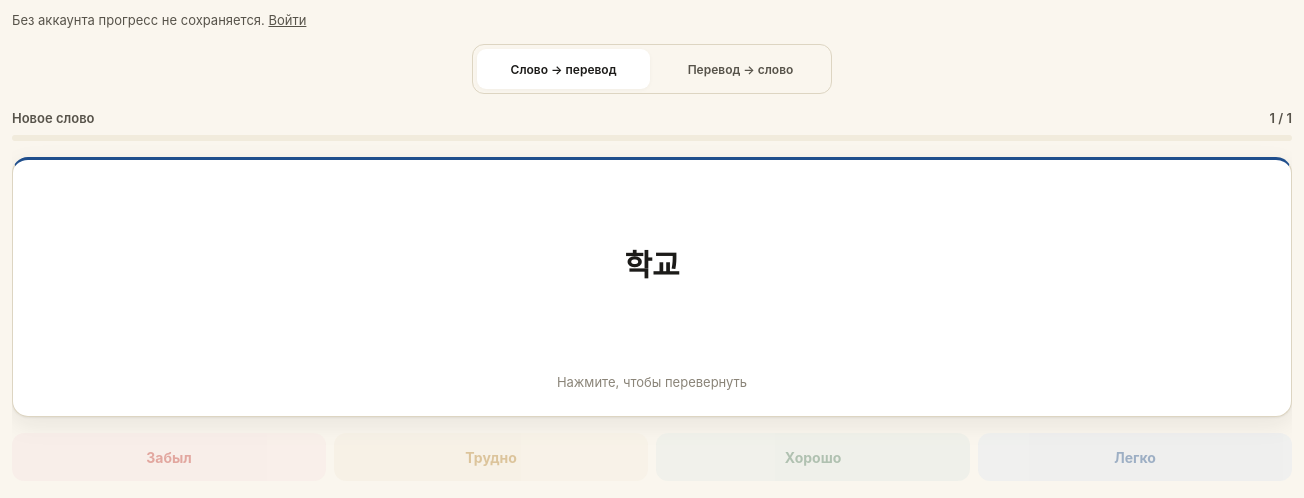
Test case: позволяет гостю повторить забытую карту без записи в аккаунт
Click the button with aria-label "Показать ответ" at [652, 287], box [12,157,1292,417]
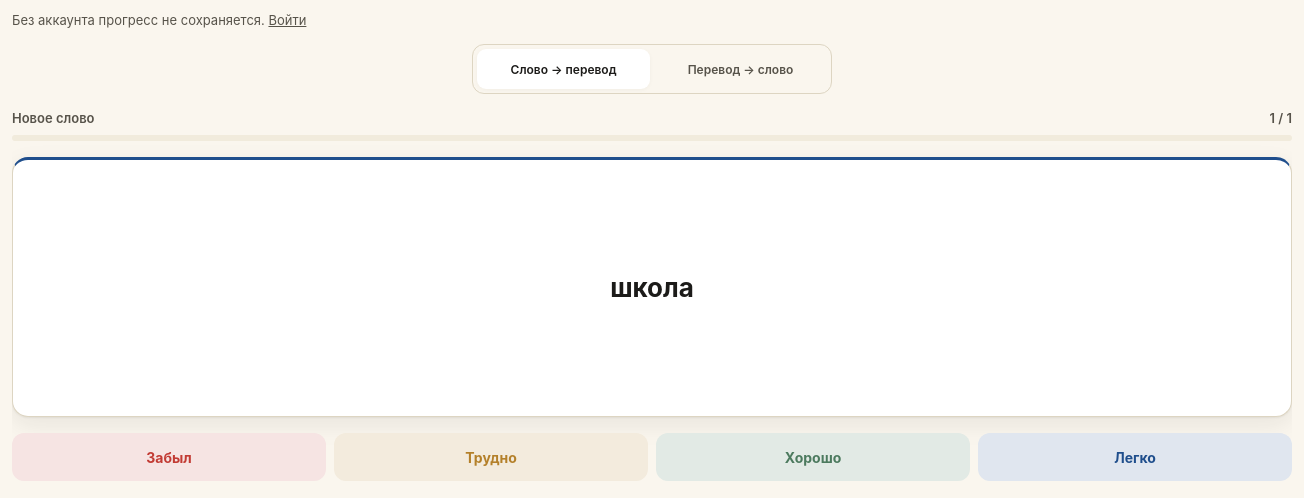
Click the button "Забыл" at [169, 457], box [12,433,326,481]
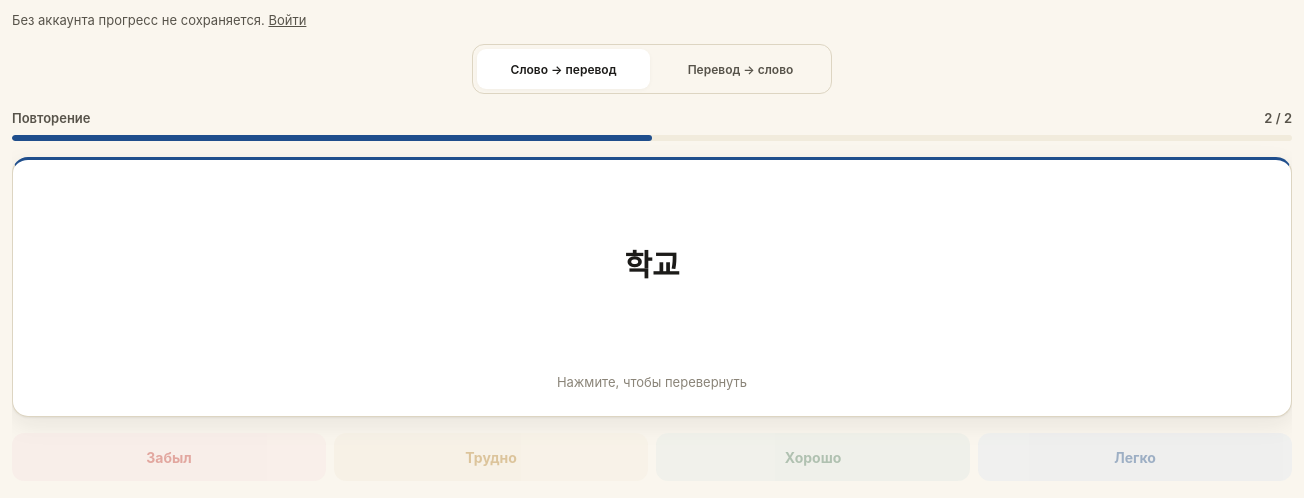
Click the button with aria-label "Показать ответ" at [652, 287], box [12,157,1292,417]
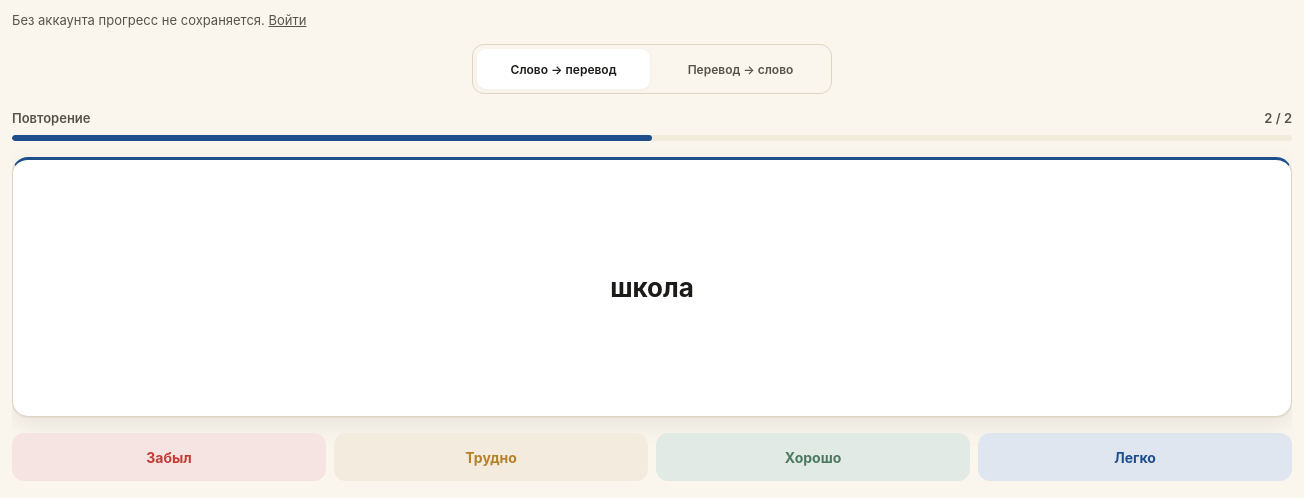
Click the button "Хорошо" at [813, 457], box [656,433,970,481]
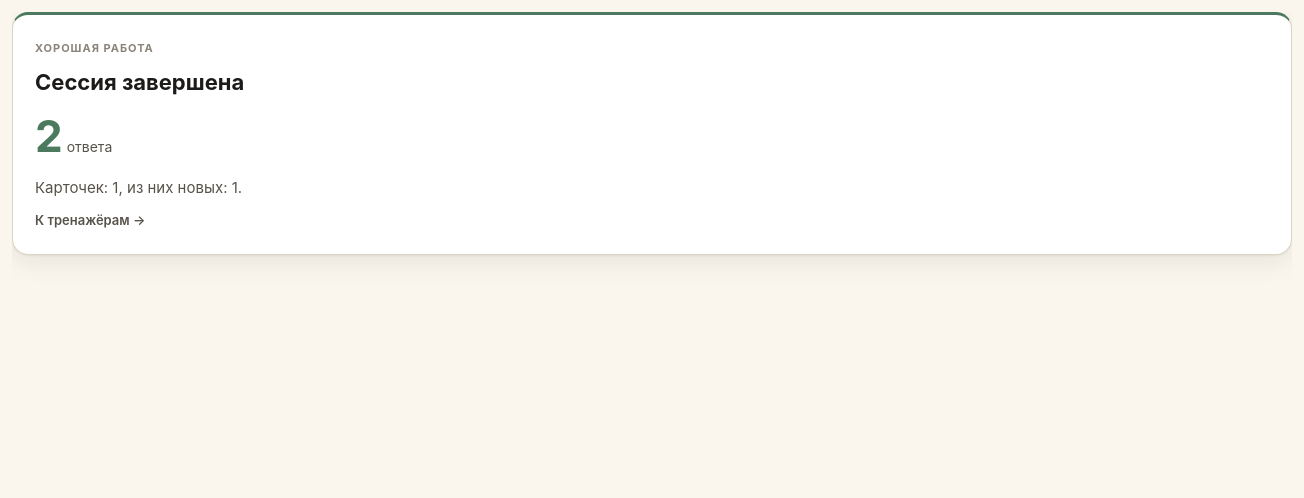
Expected: the heading "Сессия завершена" is shown, [35,69,244,95]
